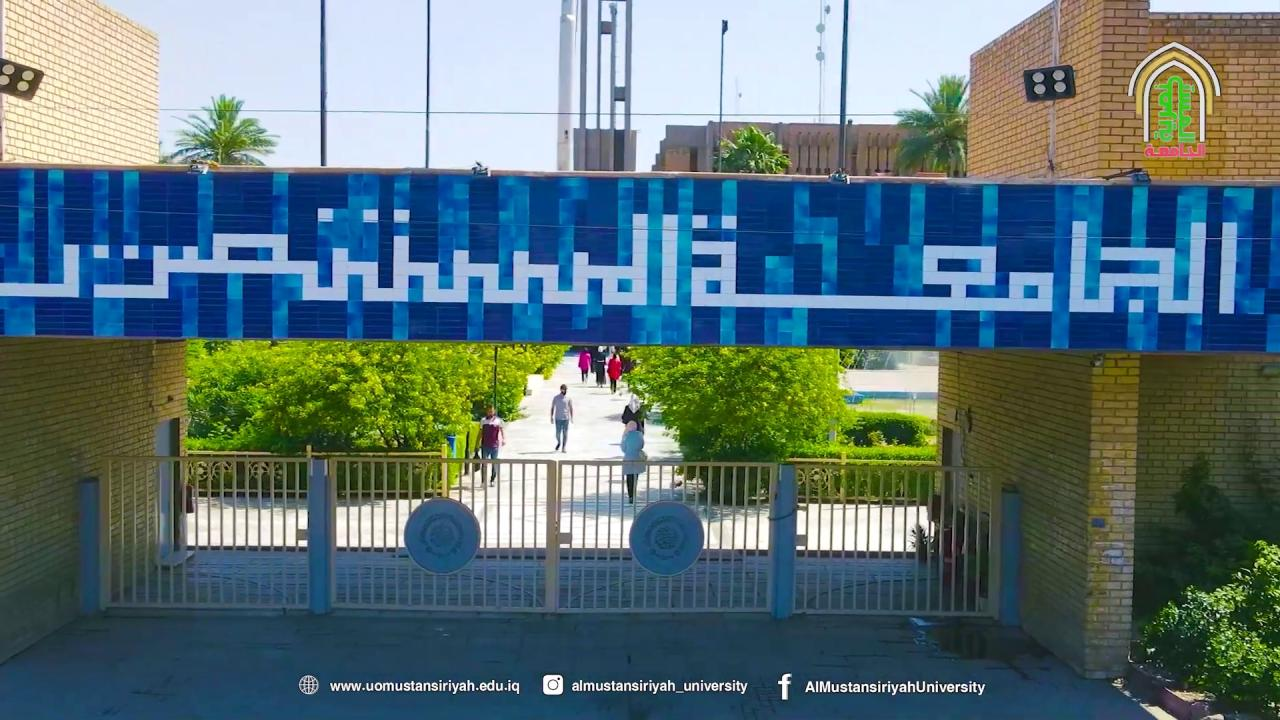car: (843, 393, 863, 404), (594, 354, 606, 363)
person: (473, 404, 505, 487), (620, 420, 647, 504), (550, 384, 574, 452), (606, 349, 622, 395), (578, 347, 592, 382)
tree: (186, 339, 570, 496), (624, 344, 861, 503), (1130, 537, 1278, 718), (465, 342, 567, 423), (169, 92, 279, 167), (891, 72, 970, 176), (712, 124, 791, 173)
